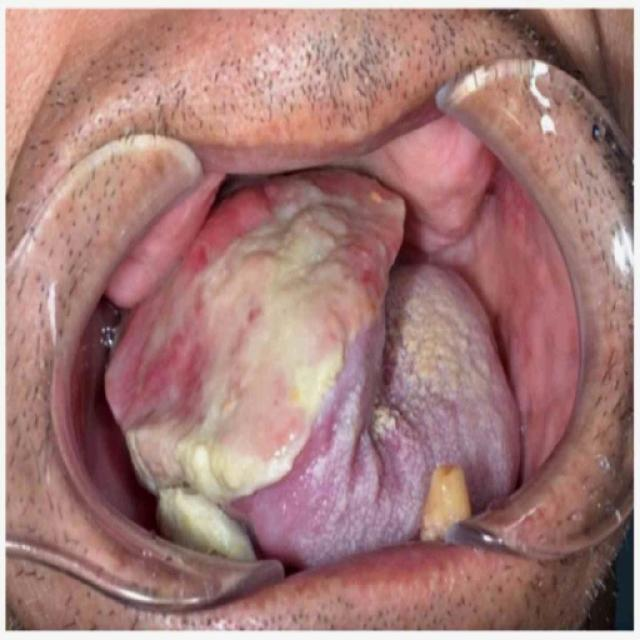cancer-detection: (109, 176, 405, 561)
processing_area: (97, 115, 578, 568)
